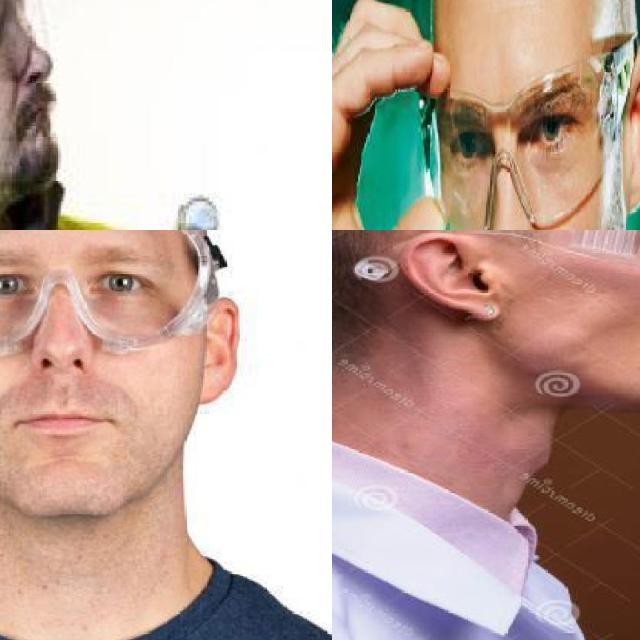No_Ear-Protection: (392, 230, 504, 325), (196, 287, 246, 420), (622, 35, 640, 216)
face_mask: (354, 230, 640, 291)
face_nomask: (0, 250, 160, 459), (413, 75, 606, 230), (0, 0, 66, 161)
glasses: (412, 25, 639, 230), (0, 230, 219, 360), (0, 0, 53, 83)
hand_noglove: (332, 0, 463, 230)
person: (332, 230, 640, 640), (0, 0, 175, 230)
